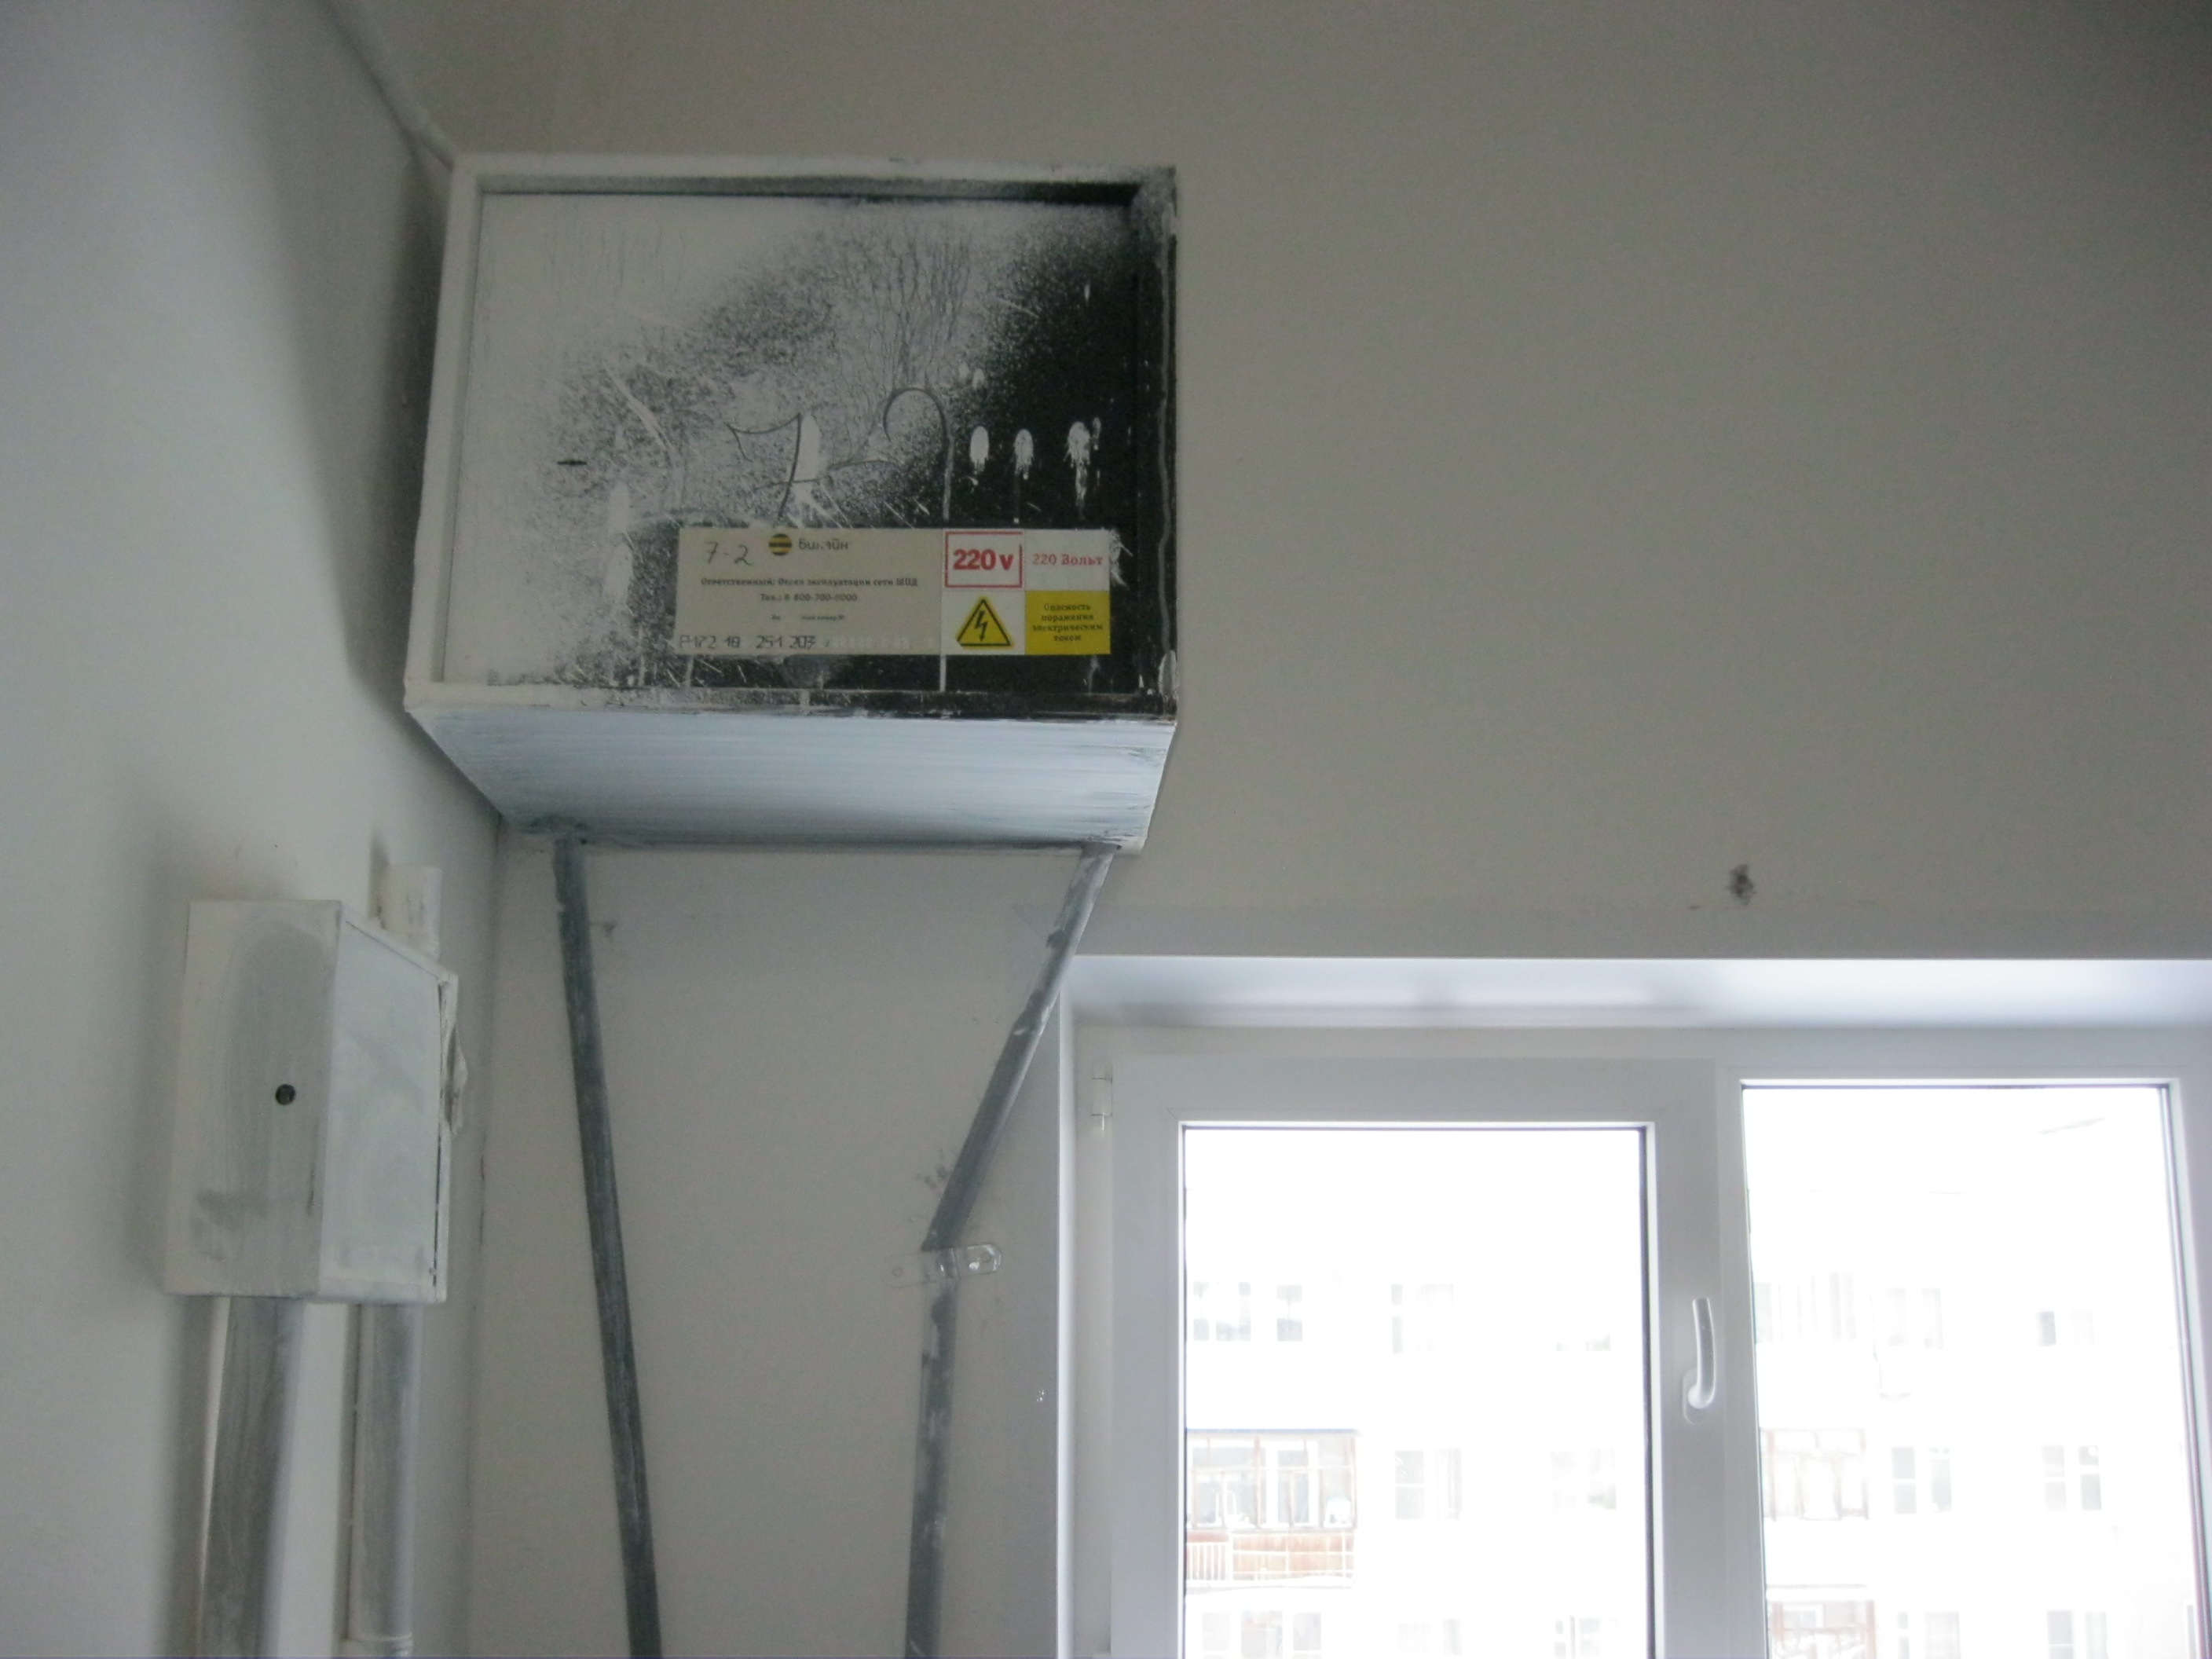shta-9m: (394, 146, 1186, 857)
